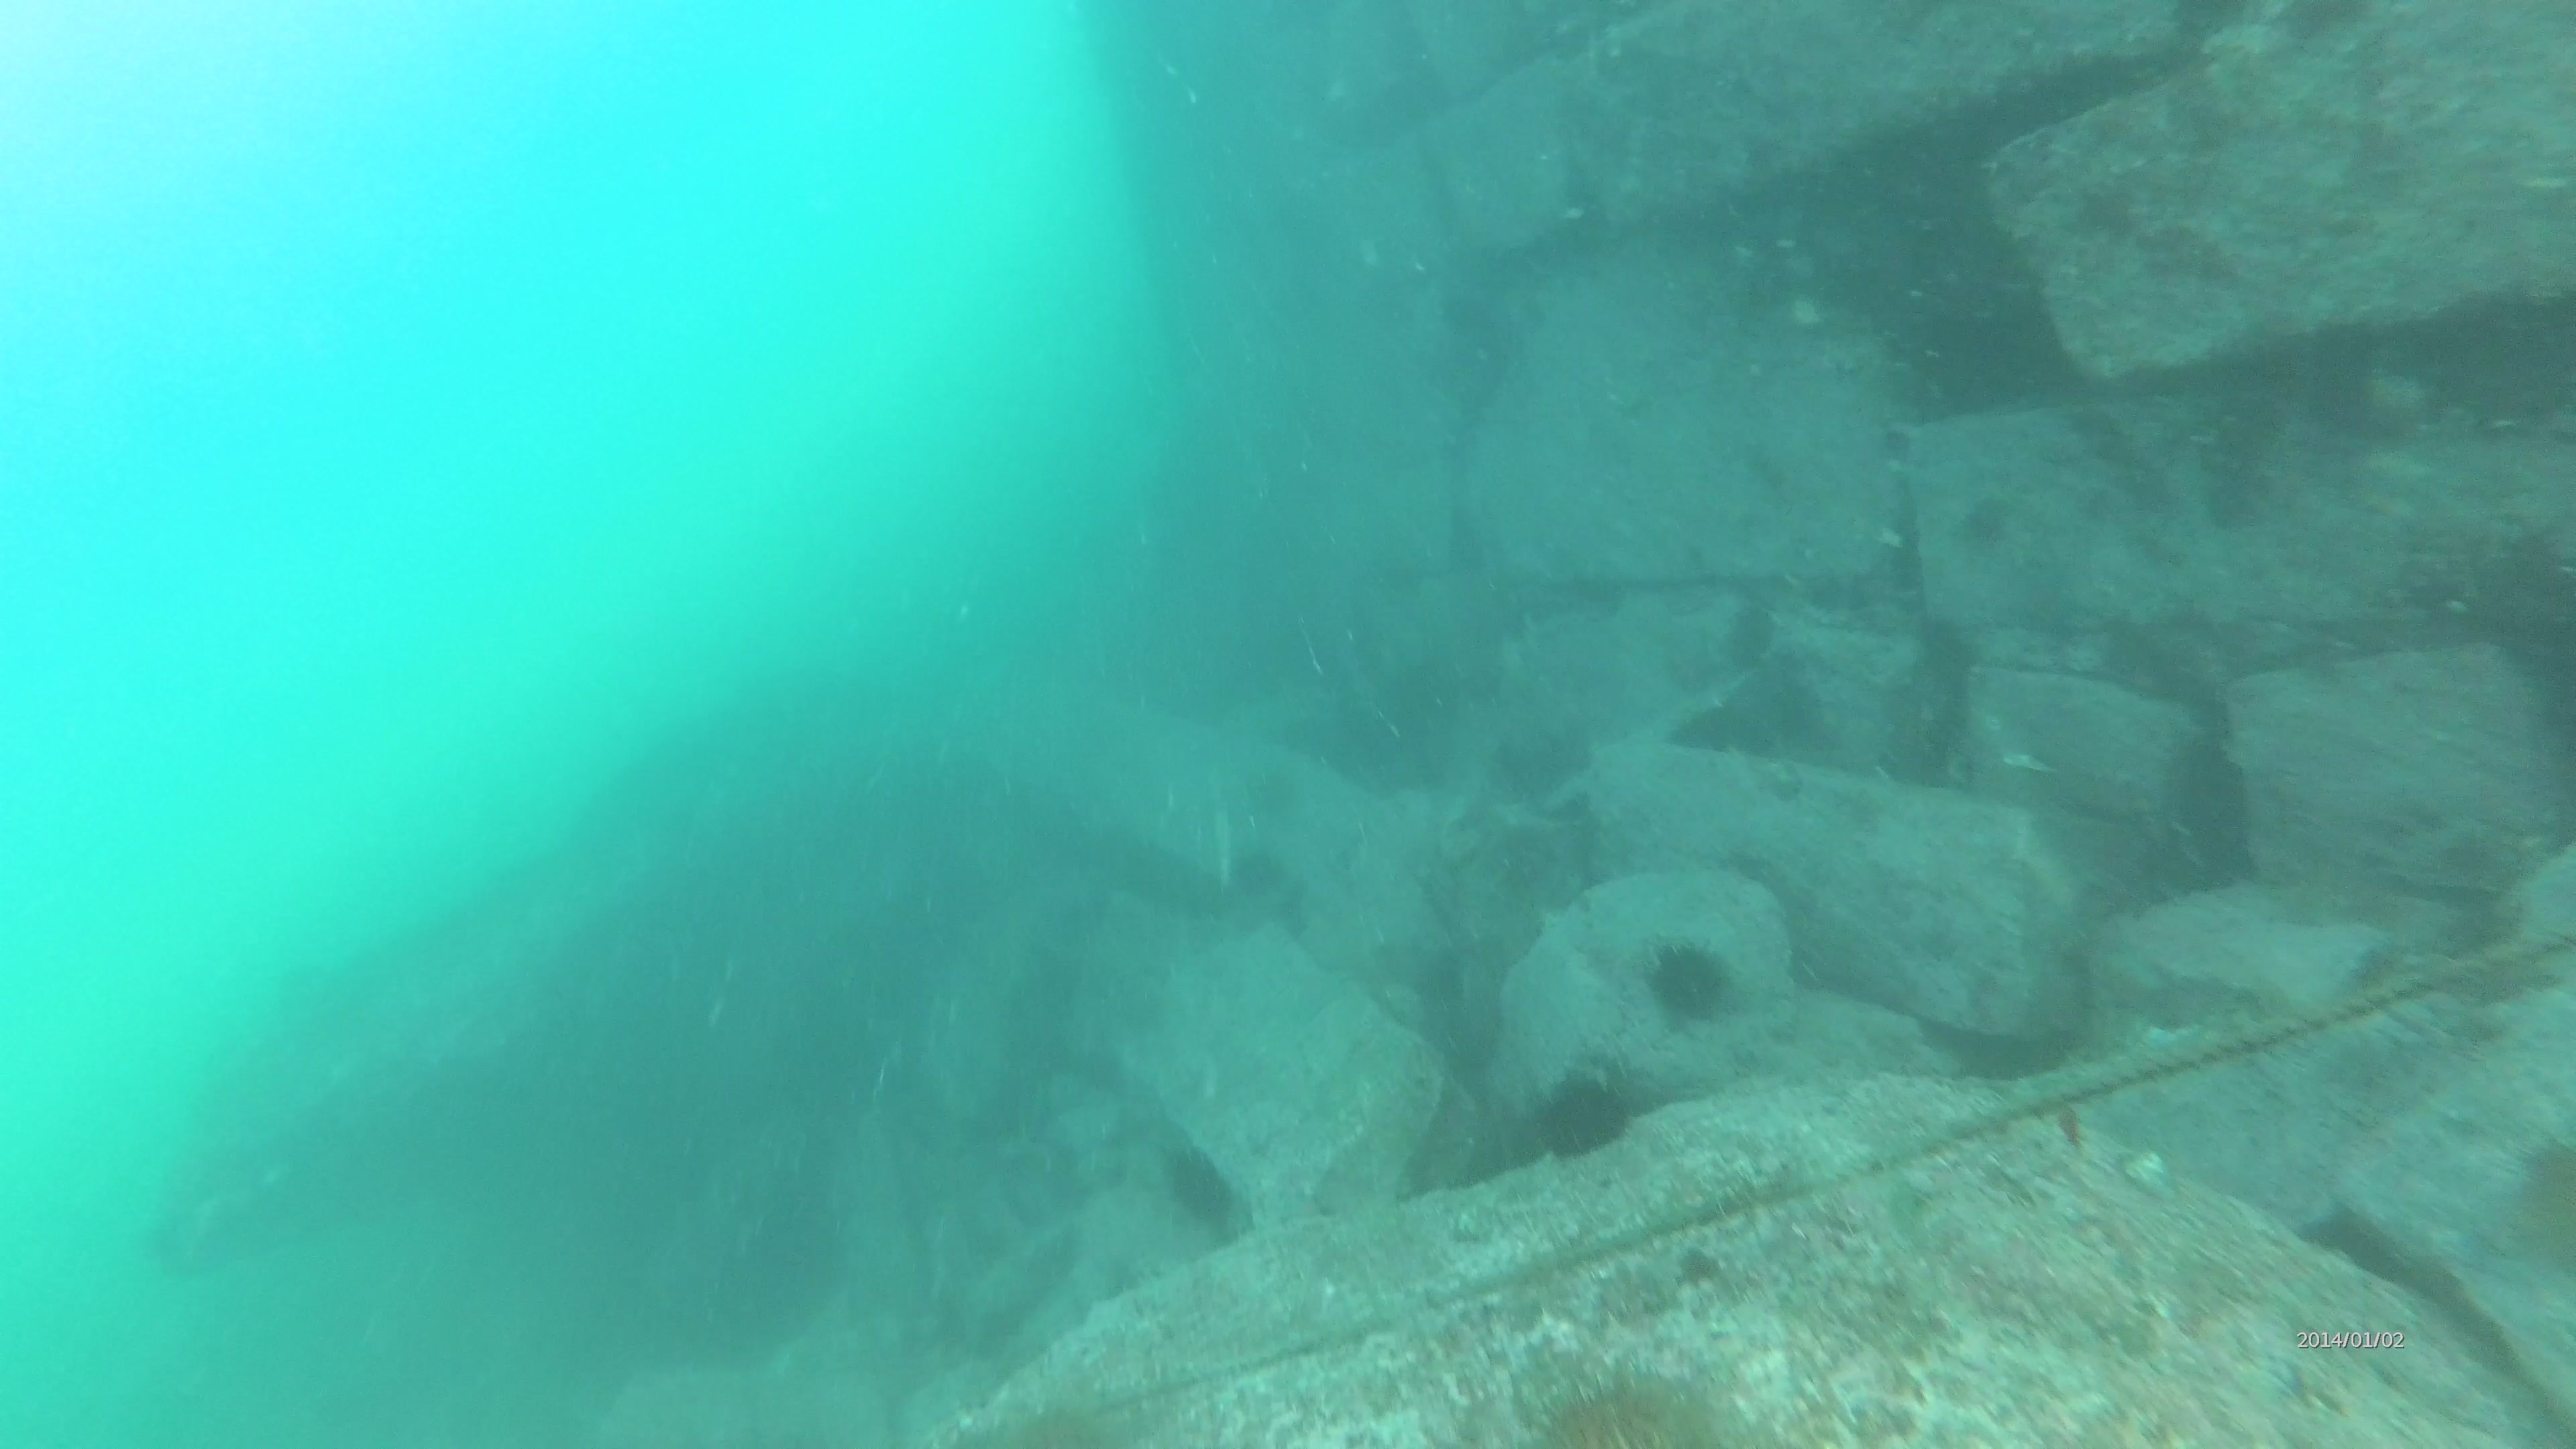echinus: (1522, 1361, 1732, 1445), (1523, 1062, 1640, 1168), (1635, 932, 1744, 1033), (1152, 1138, 1253, 1244)
